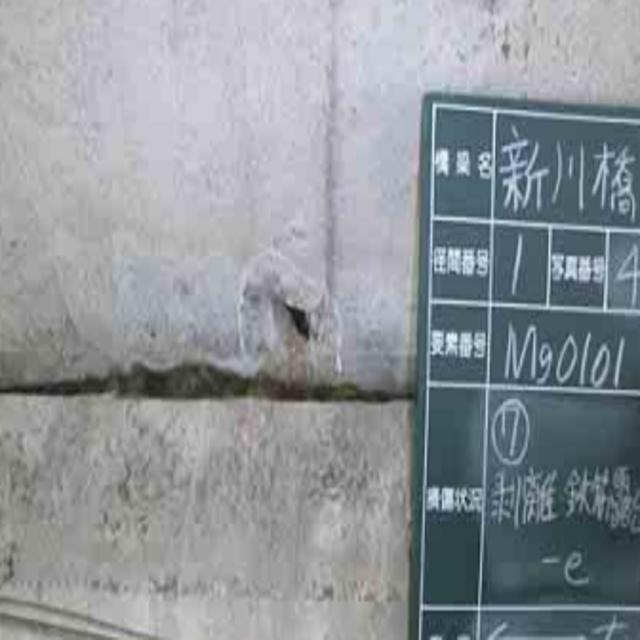spalling: (228, 263, 363, 394)
